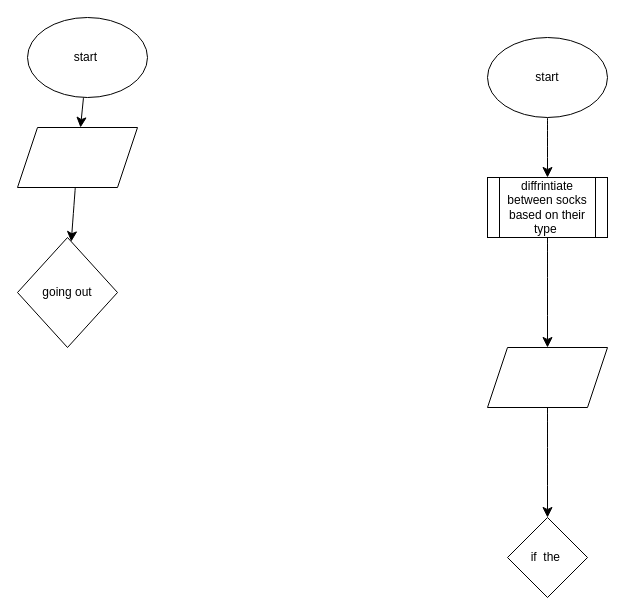
This 625x615 diagram has some shape labels left out. The shapes that lost their labels are listed below. From the top down, each one's centre as x and y in pixels, then its label:
[77,157]: check the schedule
[547,377]: check the colour, size and the type of the socks
